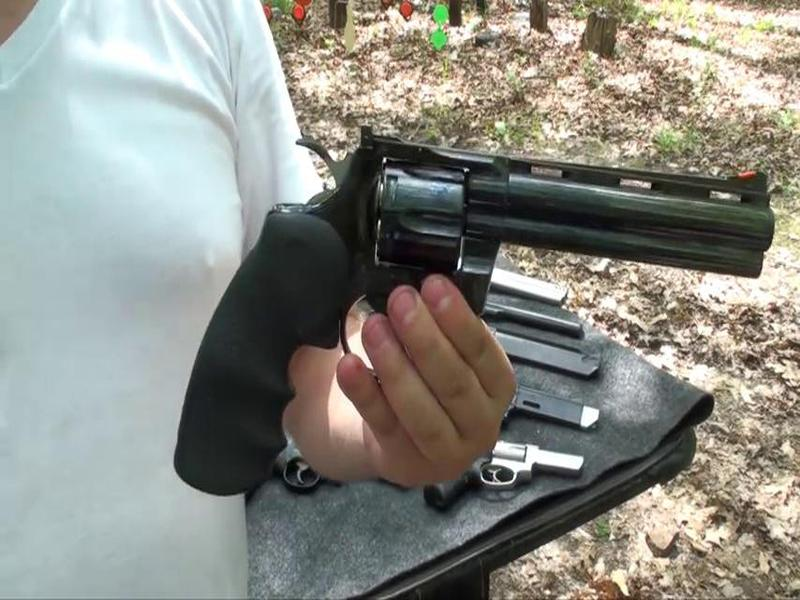Revolver: (168, 118, 785, 515)
